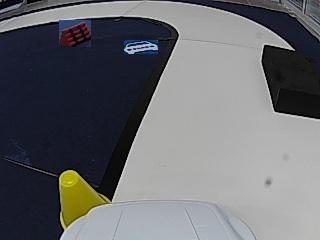block: (262, 44, 318, 117)
cone: (59, 170, 110, 205)
